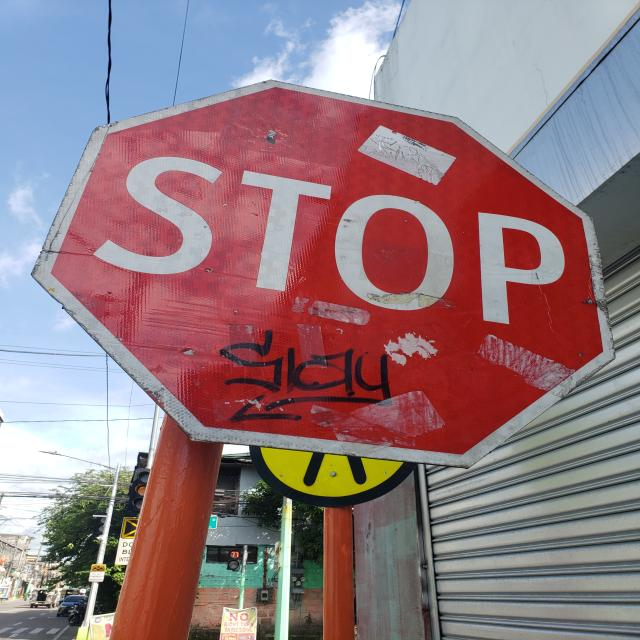stop-sign: (30, 78, 618, 468)
